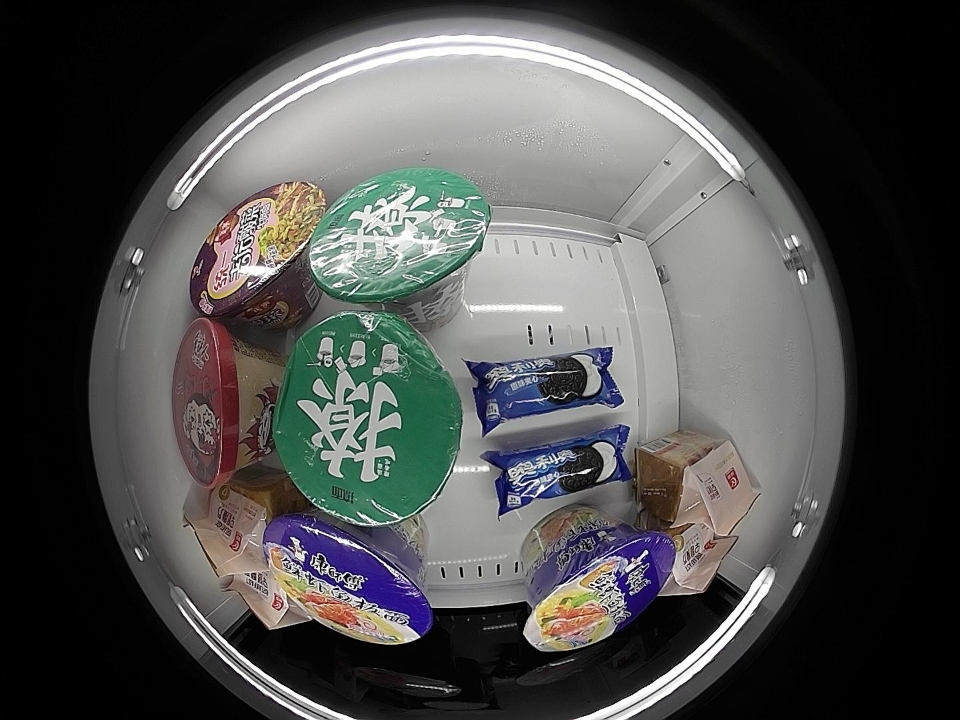aoliao: (472, 352, 619, 426), (496, 430, 634, 507)
laotansuancai: (189, 179, 326, 320)
liaomian: (273, 310, 463, 529), (306, 168, 490, 307)
suanlafen: (172, 318, 266, 486)
xianxiayuban: (265, 512, 434, 645), (526, 525, 676, 653)
zaocanmofang: (667, 439, 762, 540), (186, 487, 272, 580), (667, 523, 738, 596), (220, 567, 290, 629)
